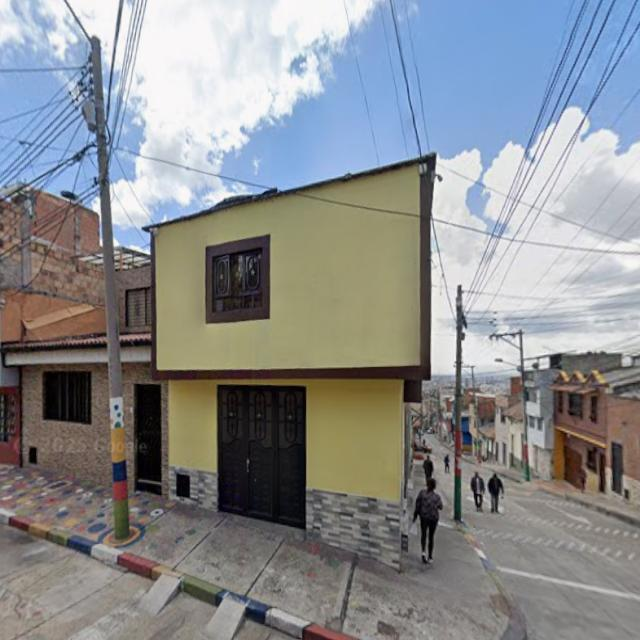fachada: (151, 156, 435, 567), (0, 190, 111, 486), (116, 248, 168, 495), (552, 366, 639, 503), (525, 367, 557, 479), (495, 377, 523, 467)
poste: (92, 37, 129, 540), (454, 284, 464, 522), (519, 330, 530, 481)
